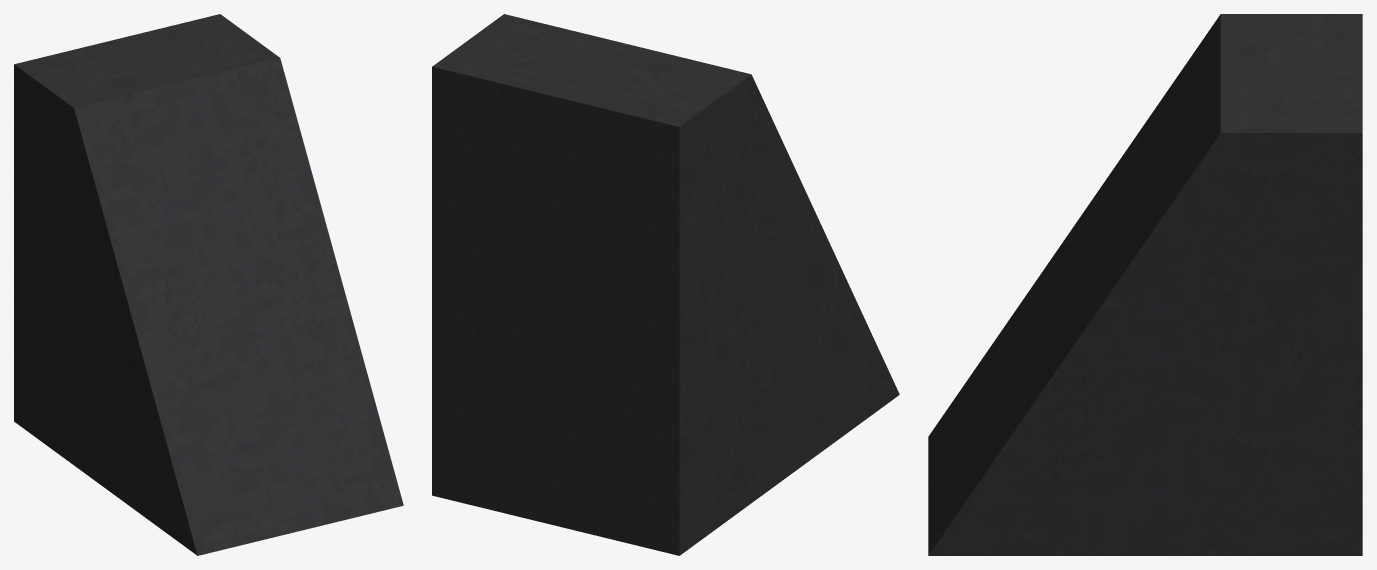
Rendered from pesec_cerna.glb.
The picture shows the model from 3 angles, left to right: view 1: azimuth 30°, elevation 25°; view 2: azimuth 150°, elevation 25°; view 3: azimuth 270°, elevation 25°; orthographic projection. The views are drawn at different scales.
Visible parts, largest first — view 1: pesec_cerna; view 2: pesec_cerna; view 3: pesec_cerna.
Part boxes in pixels (x1,y1,x2,y2): pesec_cerna: (14,14,403,555); pesec_cerna: (432,14,899,555); pesec_cerna: (928,14,1362,555).
Size of the model in its own units: 0.03 by 0.0497 by 0.0463.
1 material, 1 textured.
